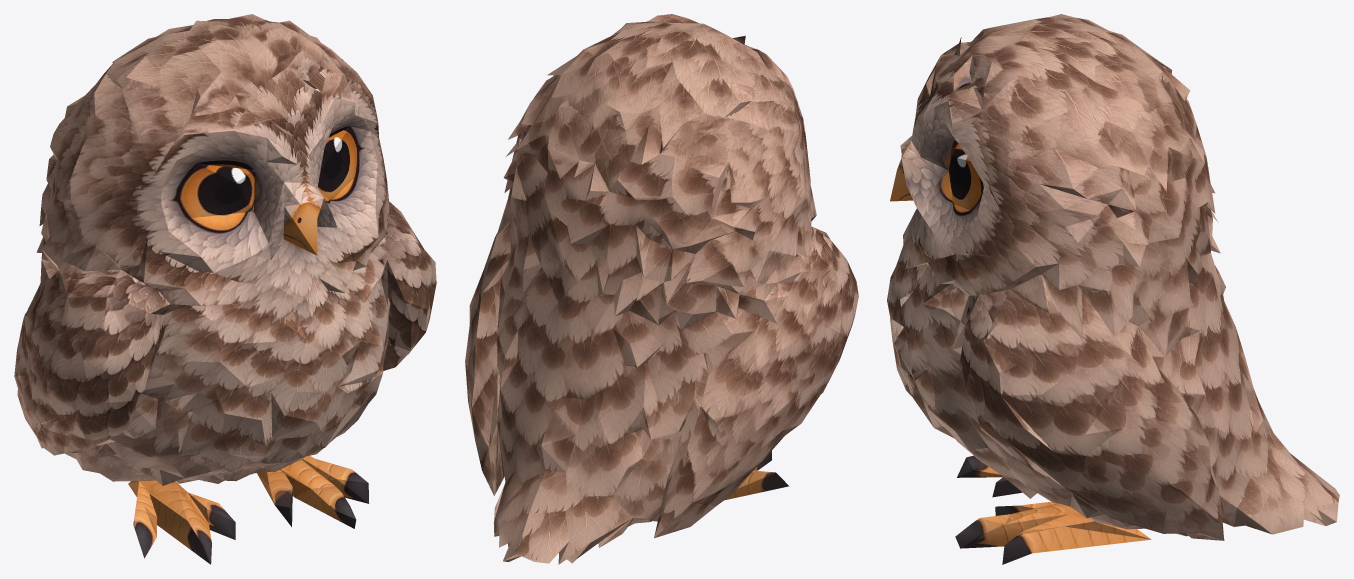
Rendered from owlet.glb.
The picture shows the model from 3 angles, left to right: view 1: azimuth 30°, elevation 25°; view 2: azimuth 150°, elevation 25°; view 3: azimuth 270°, elevation 25°; orthographic projection. The views are drawn at different scales.
Size of the model in its own units: 0.2429 by 0.3 by 0.2579.
1 material, 1 textured.
